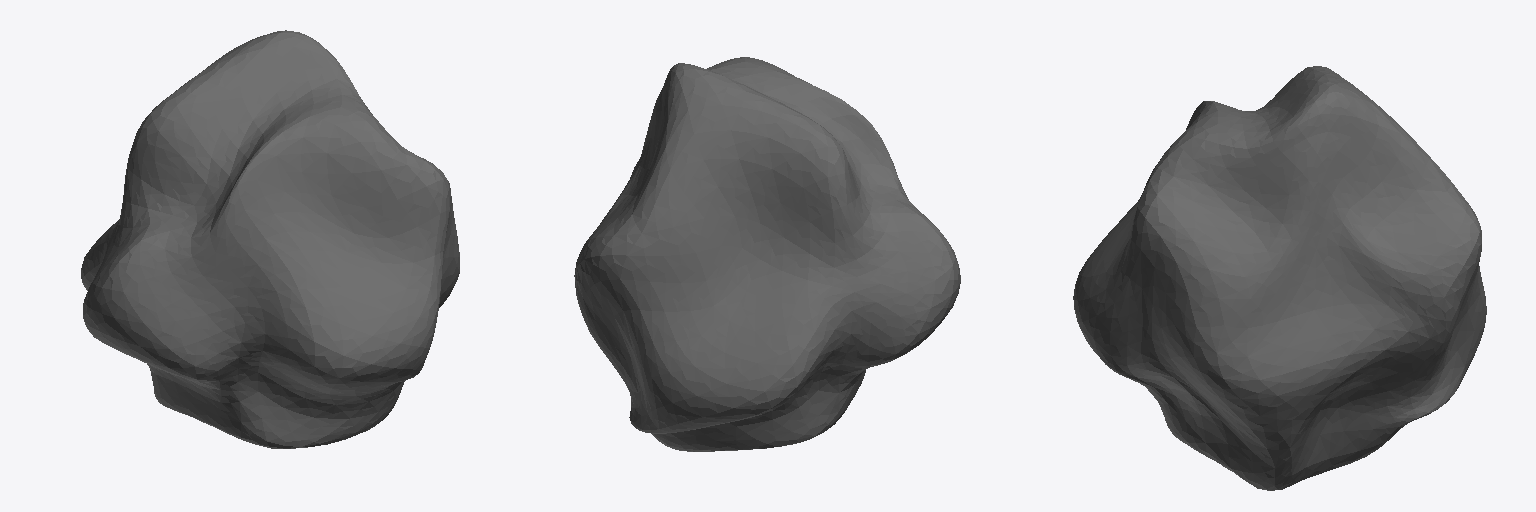
File: Bubble_Design.obj
3 views of the same model, side by side, from view 1: azimuth 30°, elevation 25°; view 2: azimuth 150°, elevation 25°; view 3: azimuth 270°, elevation 25° (orthographic).
Parts seen in each view (by area): view 1: GeoSphere001; view 2: GeoSphere001; view 3: GeoSphere001.
Boxes of the visible parts, <box> form: GeoSphere001: <box>81,30,459,448</box>; GeoSphere001: <box>574,57,960,451</box>; GeoSphere001: <box>1073,66,1486,490</box>.
Bounding box in the file's own units: 71.14 × 75.43 × 73.17.